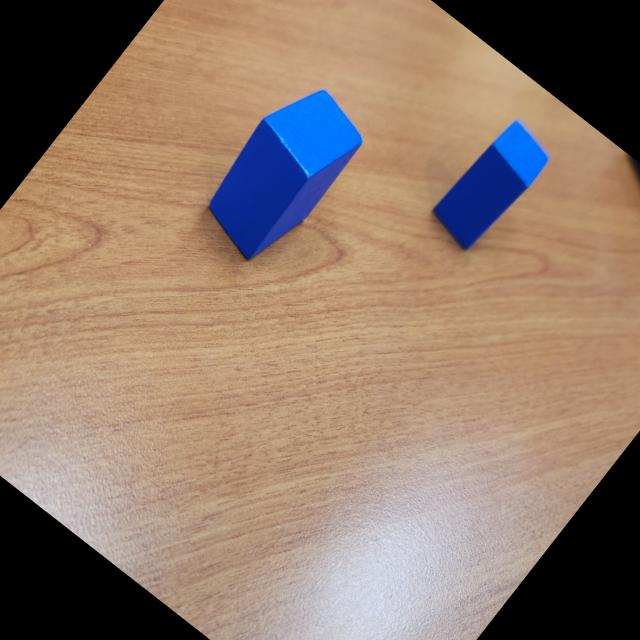blue: (187, 69, 376, 273), (425, 114, 558, 258)
